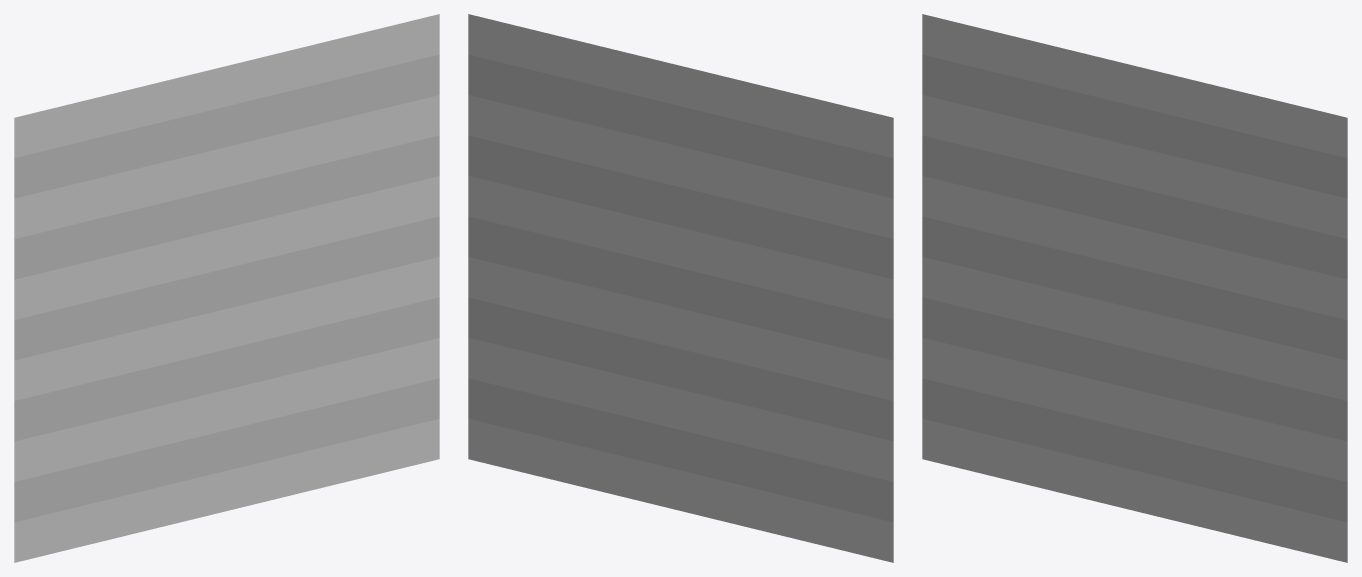
File: scoreboard_bg.glb
The picture shows the model from 3 angles, left to right: view 1: azimuth 30°, elevation 25°; view 2: azimuth 150°, elevation 25°; view 3: azimuth 330°, elevation 25°; orthographic projection.
Visible parts, largest first — view 1: Plane; view 2: Plane; view 3: Plane.
Part boxes in pixels (x1,y1,x2,y2): Plane: (14,14,439,562); Plane: (468,14,893,562); Plane: (922,14,1347,562).
Size of the model in its own units: 1 by 1 by 2.11e-07.
1 material, 1 textured.
